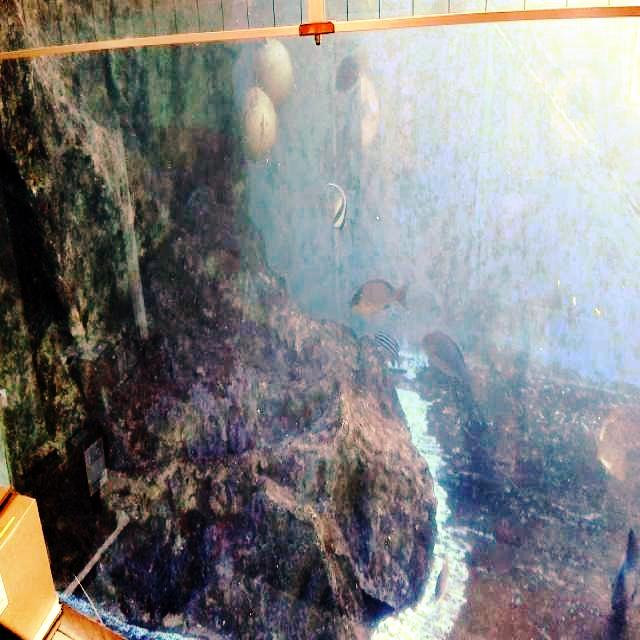Plectorhinchus lessonii: (371, 323, 408, 378)
angelfish: (321, 167, 356, 244)
gold snapper: (421, 325, 478, 398), (346, 272, 416, 322)
